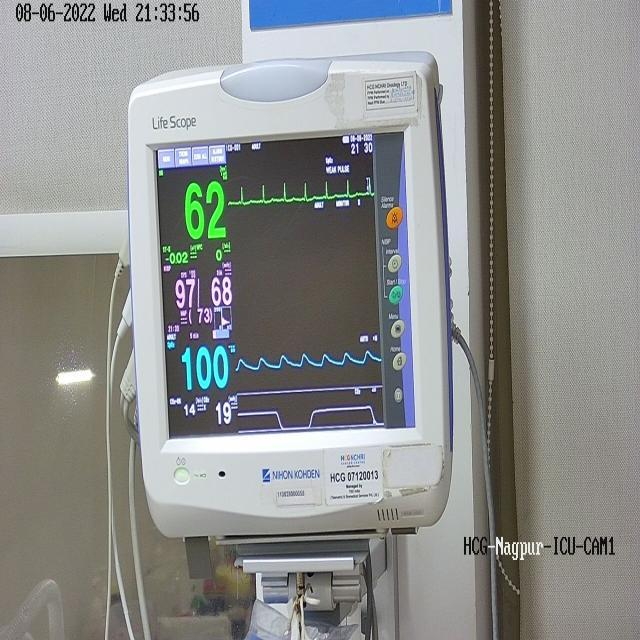Monitor: (128, 56, 454, 540)
